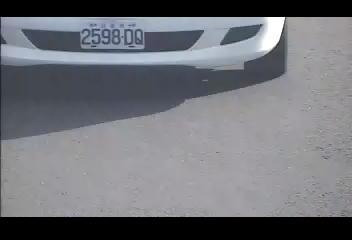plate: (78, 20, 146, 50)
